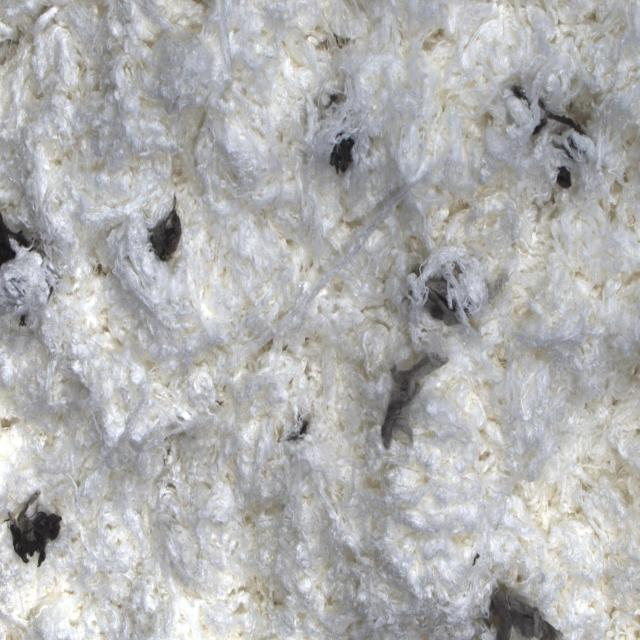dust: (132, 177, 197, 296), (0, 200, 57, 334), (378, 353, 449, 460), (480, 574, 565, 640), (1, 485, 66, 570), (410, 258, 482, 333), (511, 77, 593, 140), (316, 114, 366, 197), (277, 394, 317, 474), (543, 140, 580, 212)
